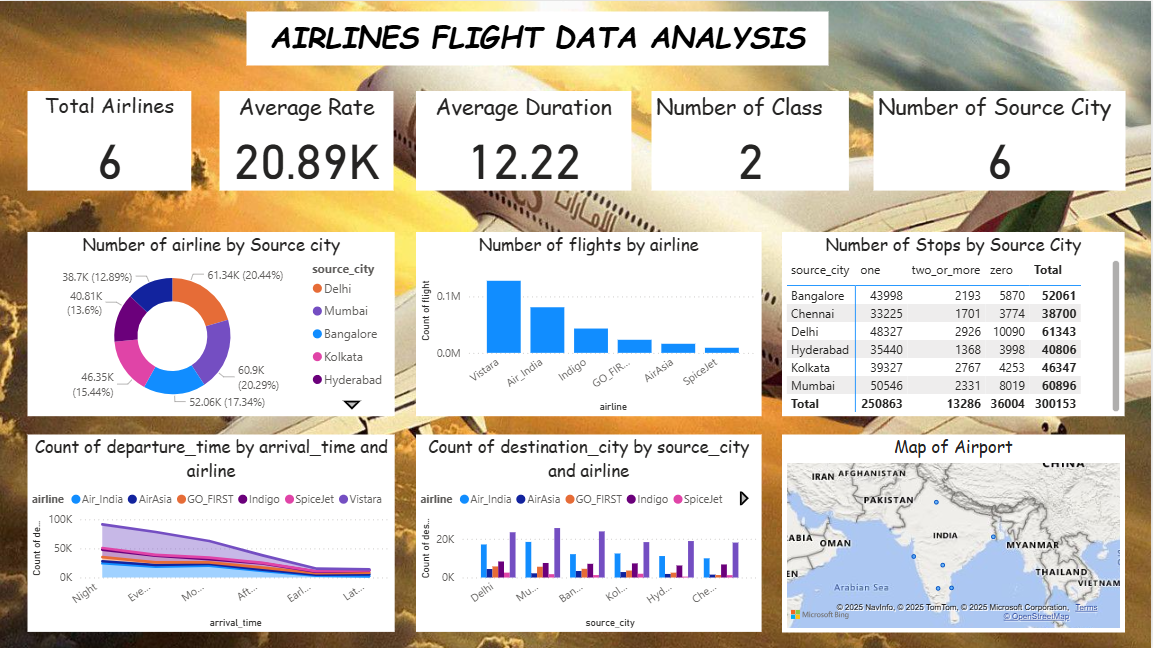

The dashboard page shown, as its layout file describes it:
{"tool":"powerbi","page":{"name":"Page 1","canvas":[1280,720],"ordinal":0},"visuals":[{"type":"card","title":"Total Airlines","fields":{"Values":["Count(airlines_flights_data.airline)"]},"box":[30.9,99.2,182.2,110.6],"z":0},{"type":"card","title":"Number of Source City","fields":{"Values":["Count(airlines_flights_data.source_city)"]},"box":[971,99.2,279.8,110.6],"z":1000},{"type":"card","title":"Number of Class","fields":{"Values":["Count(airlines_flights_data.class)"]},"box":[725.4,99.2,219.6,110.6],"z":2000},{"type":"card","title":"Average Duration","fields":{"Values":["Avg(airlines_flights_data.duration)"]},"box":[463.6,99.2,239.1,110.6],"z":3000},{"type":"card","title":"Average Rate","fields":{"Values":["Avg(airlines_flights_data.price)"]},"box":[245.6,99.2,193.6,110.6],"z":4000},{"type":"donutChart","title":"Number of airline by Source city","fields":{"Category":["airlines_flights_data.source_city"],"Y":["CountNonNull(airlines_flights_data.airline)"]},"box":[30.9,257,408.3,204.9],"z":5000},{"type":"clusteredColumnChart","title":"Number of flights by airline","fields":{"Category":["airlines_flights_data.airline"],"Y":["CountNonNull(airlines_flights_data.flight)"]},"box":[463.6,257,383.9,204.9],"z":6000},{"type":"pivotTable","title":"Number of Stops by Source City","fields":{"Rows":["airlines_flights_data.source_city"],"Columns":["airlines_flights_data.stops"],"Values":["CountNonNull(airlines_flights_data.airline)"]},"box":[870.2,257,380.6,204.9],"z":6001},{"type":"stackedAreaChart","fields":{"Y":["CountNonNull(airlines_flights_data.departure_time)"],"Category":["airlines_flights_data.arrival_time"],"Series":["airlines_flights_data.airline"]},"box":[30.9,481.5,408.3,219.6],"z":6002},{"type":"clusteredColumnChart","fields":{"Category":["airlines_flights_data.source_city"],"Series":["airlines_flights_data.airline"],"Y":["CountNonNull(airlines_flights_data.destination_city)"]},"box":[463.6,481.5,383.9,219.6],"z":6003},{"type":"map","title":"Map of Airport","fields":{"Category":["airlines_flights_data.source_city"]},"box":[870.2,481.5,380.6,219.6],"z":6004},{"type":"textbox","box":[275,11.7,646.7,60],"z":6005}]}

Visuals, with their boxes in screenshot pixels (x1, y1, x2, y2), scaled from the page's 1280x720 canvas onto the 1153x648 screenshot:
"Total Airlines" card: Rect(28, 89, 192, 189)
"Number of Source City" card: Rect(875, 89, 1127, 189)
"Number of Class" card: Rect(653, 89, 851, 189)
"Average Duration" card: Rect(418, 89, 633, 189)
"Average Rate" card: Rect(221, 89, 396, 189)
"Number of airline by Source city" donutChart: Rect(28, 231, 396, 416)
"Number of flights by airline" clusteredColumnChart: Rect(418, 231, 763, 416)
"Number of Stops by Source City" pivotTable: Rect(784, 231, 1127, 416)
stackedAreaChart - CountNonNull(airlines_flights_data.departure_time) x airlines_flights_data.arrival_time: Rect(28, 433, 396, 631)
clusteredColumnChart - airlines_flights_data.source_city x airlines_flights_data.airline: Rect(418, 433, 763, 631)
"Map of Airport" map: Rect(784, 433, 1127, 631)
textbox: Rect(248, 11, 830, 65)
